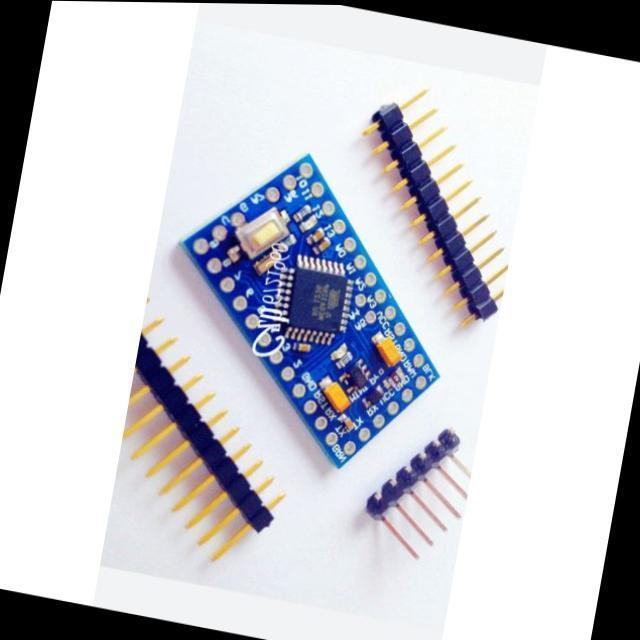Arduino-ProMini: (185, 157, 438, 467)
